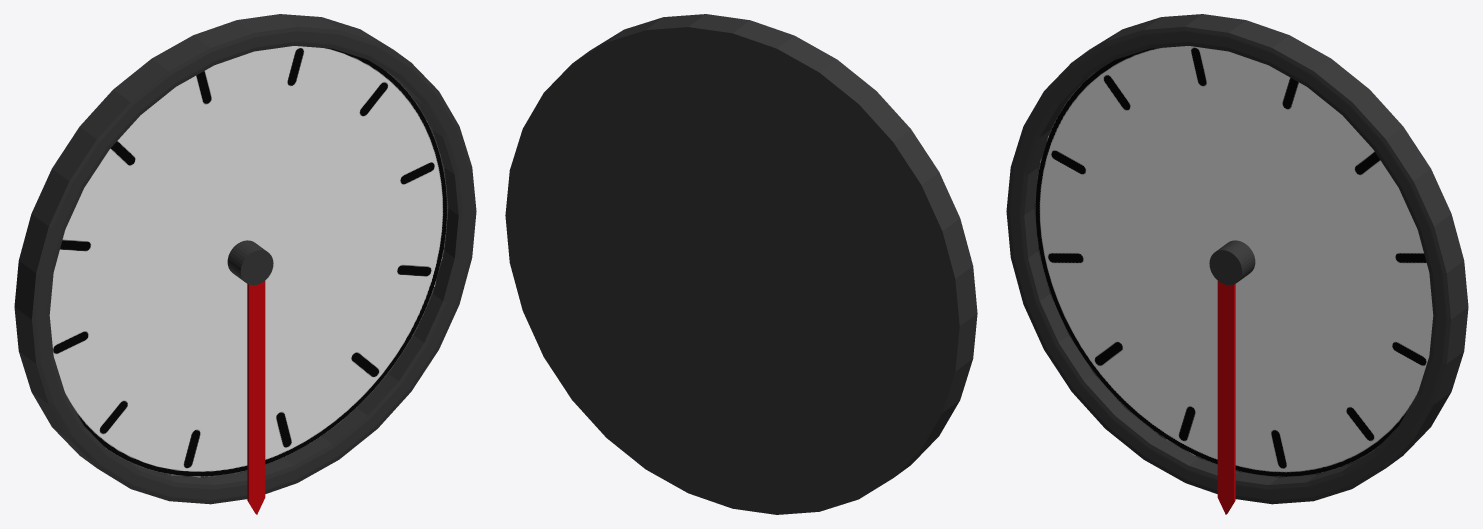
Rendered from clock.fbx.
3 renders of one model, left to right at view 1: azimuth 30°, elevation 25°; view 2: azimuth 150°, elevation 25°; view 3: azimuth 330°, elevation 25°, orthographic. The views are drawn at different scales.
Parts seen in each view (by area): view 1: Cylinder, Cube, Cylinder.001; view 2: Cylinder; view 3: Cylinder, Cube, Cylinder.001.
Boxes of the visible parts, x1=… form: Cylinder: x1=14, y1=14, x2=476, y2=504; Cube: x1=247, y1=281, x2=265, y2=514; Cylinder.001: x1=227, y1=240, x2=273, y2=285; Cylinder: x1=505, y1=14, x2=977, y2=514; Cylinder: x1=1006, y1=14, x2=1468, y2=504; Cube: x1=1217, y1=281, x2=1235, y2=514; Cylinder.001: x1=1209, y1=240, x2=1255, y2=285.
Bounding box in the file's own units: 200 × 206 × 15.87.
Materials: 3 (1 with a texture image).
